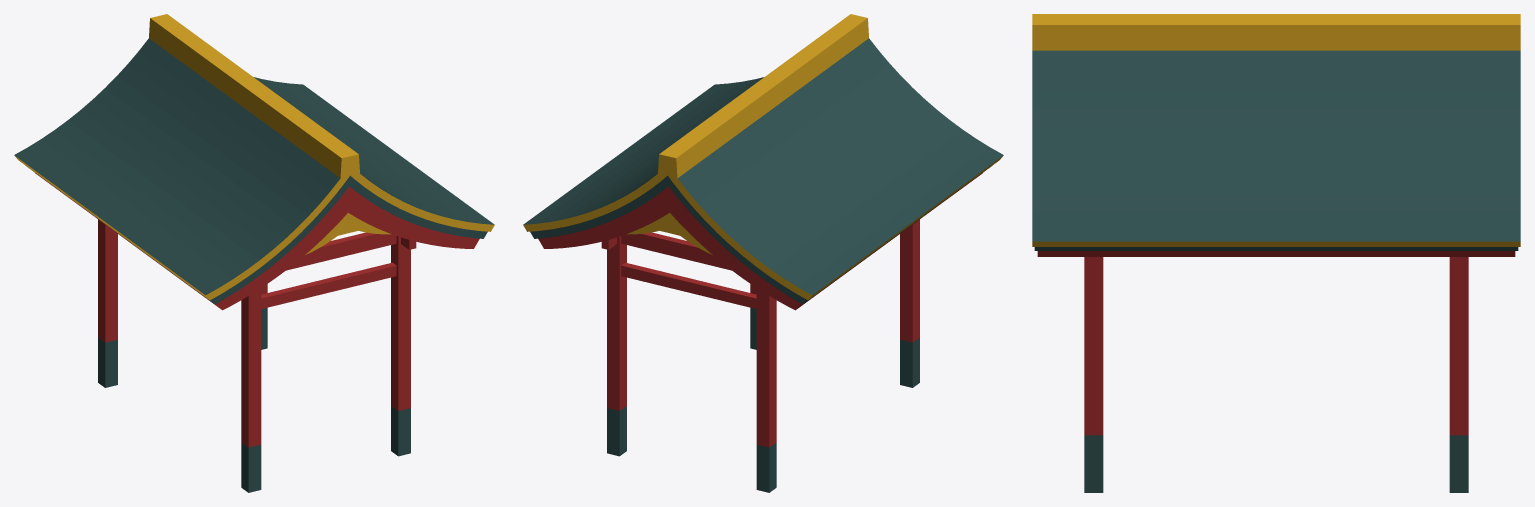
Rendered from Asian_Prop_Building_Shrine_01.FBX.
The picture shows the model from 3 angles, left to right: view 1: azimuth 30°, elevation 25°; view 2: azimuth 150°, elevation 25°; view 3: azimuth 270°, elevation 25°; orthographic projection. The views are drawn at different scales.
Visible parts, largest first — view 1: Asian_Prop_Building_Shrine_01; view 2: Asian_Prop_Building_Shrine_01; view 3: Asian_Prop_Building_Shrine_01.
Boxes of the visible parts, box(x1,y1,x2,y2) form: Asian_Prop_Building_Shrine_01: box(14, 14, 494, 492); Asian_Prop_Building_Shrine_01: box(523, 14, 1003, 492); Asian_Prop_Building_Shrine_01: box(1032, 14, 1520, 492).
Bounding box in the file's own units: 8401 × 9212 × 9641.
